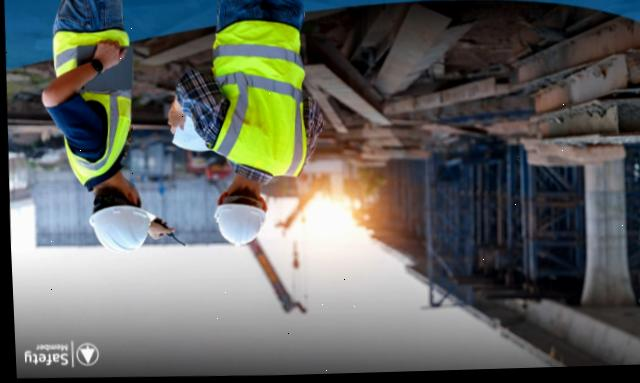helmet: (82, 203, 159, 252), (207, 200, 266, 247)
vest: (200, 23, 307, 181), (49, 26, 140, 184)
